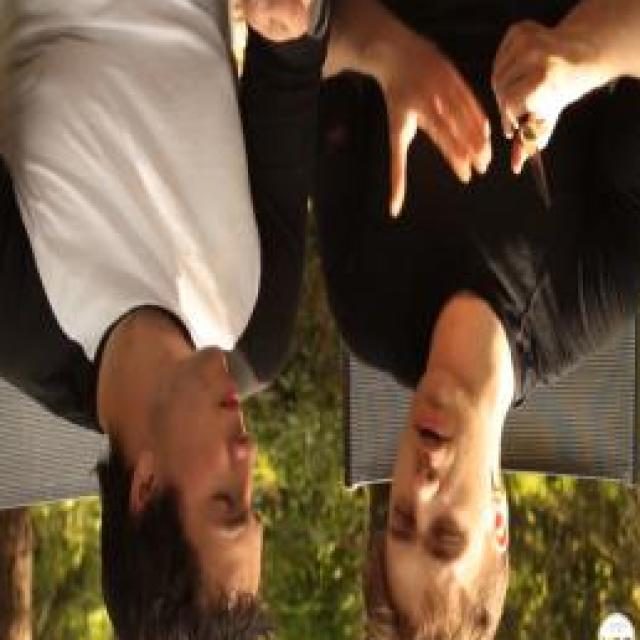knife: (491, 57, 566, 216)
